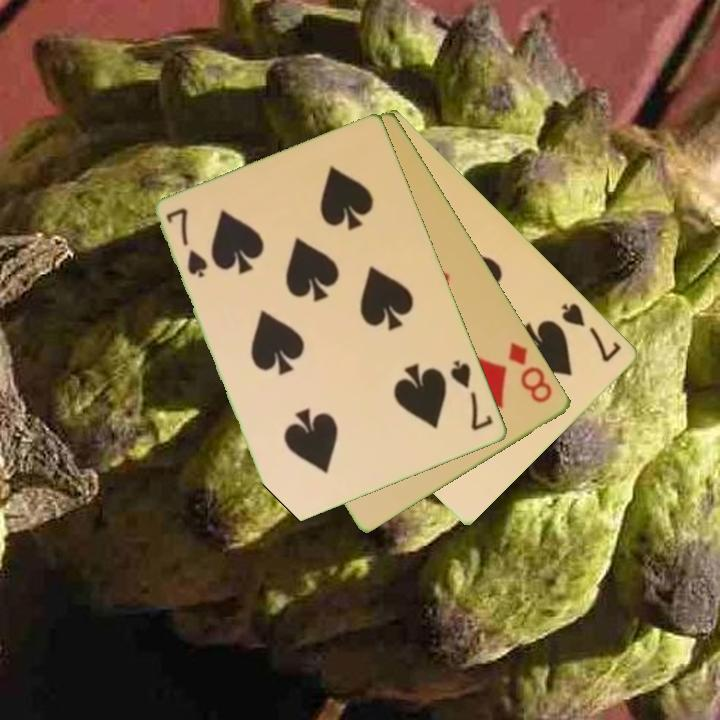7s: (558, 299, 625, 366), (447, 356, 497, 434), (162, 204, 212, 281)
8d: (505, 339, 556, 406)
